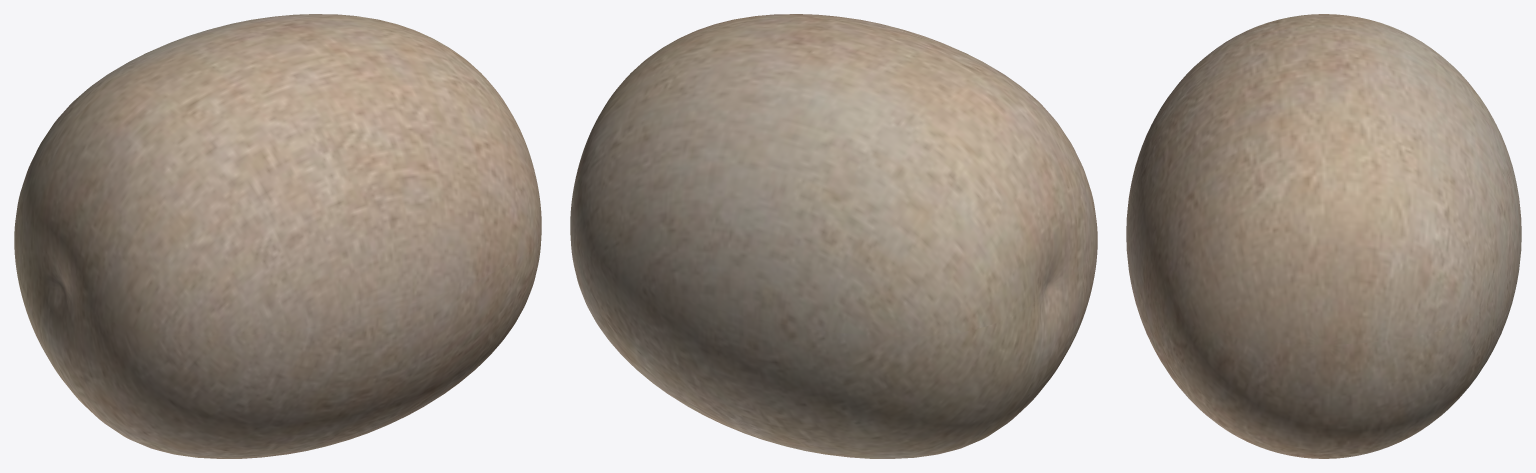
The model's file is KiwiPeel.obj.
The picture shows the model from 3 angles, left to right: view 1: azimuth 30°, elevation 25°; view 2: azimuth 150°, elevation 25°; view 3: azimuth 270°, elevation 25°; orthographic projection. The views are drawn at different scales.
Parts seen in each view (by area): view 1: KiwiPeel; view 2: KiwiPeel; view 3: KiwiPeel.
Boxes of the visible parts, box(x1,y1,x2,y2) form: KiwiPeel: box(14, 14, 541, 458); KiwiPeel: box(570, 14, 1097, 458); KiwiPeel: box(1126, 14, 1521, 458).
Bounding box in the file's own units: 0.0609 × 0.0511 × 0.0492.
Materials: 1 (1 with a texture image).
